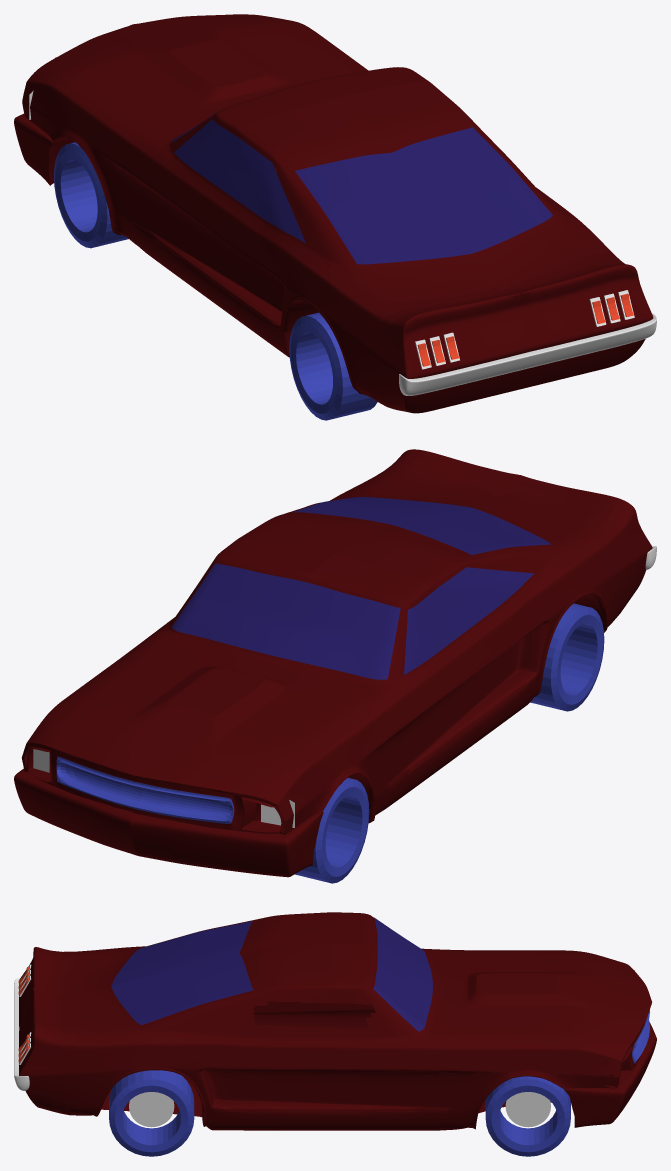
The model's file is mustang.fbx.
The picture shows the model from 3 angles, top to bottom: view 1: azimuth 30°, elevation 25°; view 2: azimuth 150°, elevation 25°; view 3: azimuth 270°, elevation 25°; orthographic projection. The views are drawn at different scales.
Parts seen in each view (by area): view 1: Cube, Cube.004, Cylinder.011, Cylinder.015, Cube.002, Cube.003, Cube.001; view 2: Cube, Cube.004, Cylinder.011, Plane.002, Cylinder.015, Plane, Plane.001; view 3: Cube, Cube.004, Cylinder.007, Cylinder.002, Cylinder.004, Cylinder.009, Cube.002, Plane, Plane.002.
Part boxes in pixels (bbox=[...]): Cube: bbox=[14, 14, 653, 413]; Cube.004: bbox=[171, 111, 552, 264]; Cylinder.011: bbox=[289, 312, 377, 420]; Cylinder.015: bbox=[54, 142, 128, 248]; Cube.002: bbox=[399, 313, 656, 395]; Cube.003: bbox=[417, 293, 633, 366]; Cube.001: bbox=[415, 290, 634, 369]; Cube: bbox=[14, 449, 652, 877]; Cube.004: bbox=[172, 497, 551, 679]; Cylinder.011: bbox=[530, 603, 604, 711]; Plane.002: bbox=[56, 756, 234, 823]; Cylinder.015: bbox=[295, 778, 369, 883]; Plane: bbox=[27, 745, 284, 833]; Plane.001: bbox=[33, 749, 294, 827]; Cube: bbox=[19, 912, 656, 1130]; Cube.004: bbox=[111, 917, 432, 1031]; Cylinder.007: bbox=[109, 1070, 194, 1156]; Cylinder.002: bbox=[485, 1076, 570, 1156]; Cylinder.004: bbox=[505, 1092, 550, 1127]; Cylinder.009: bbox=[129, 1092, 174, 1127]; Cube.002: bbox=[14, 978, 29, 1090]; Plane: bbox=[618, 1019, 646, 1084]; Plane.002: bbox=[632, 1010, 649, 1063].
Bounding box in the file's own units: 256 × 181 × 650.
